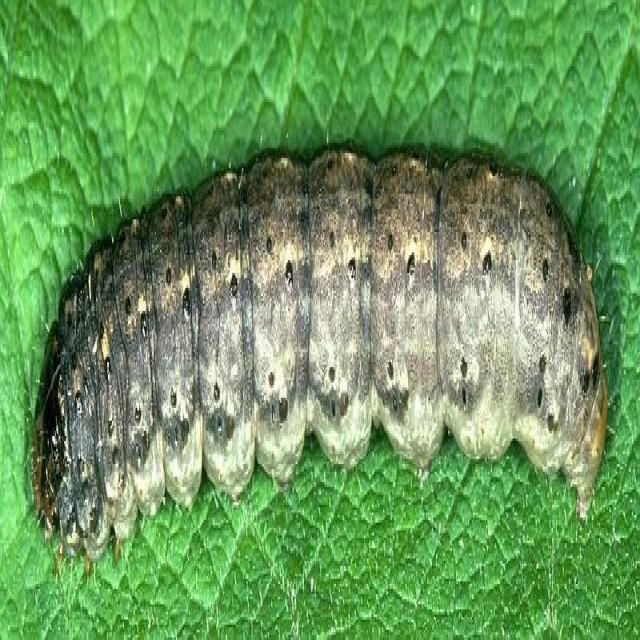black cutworm: (34, 139, 616, 542)
